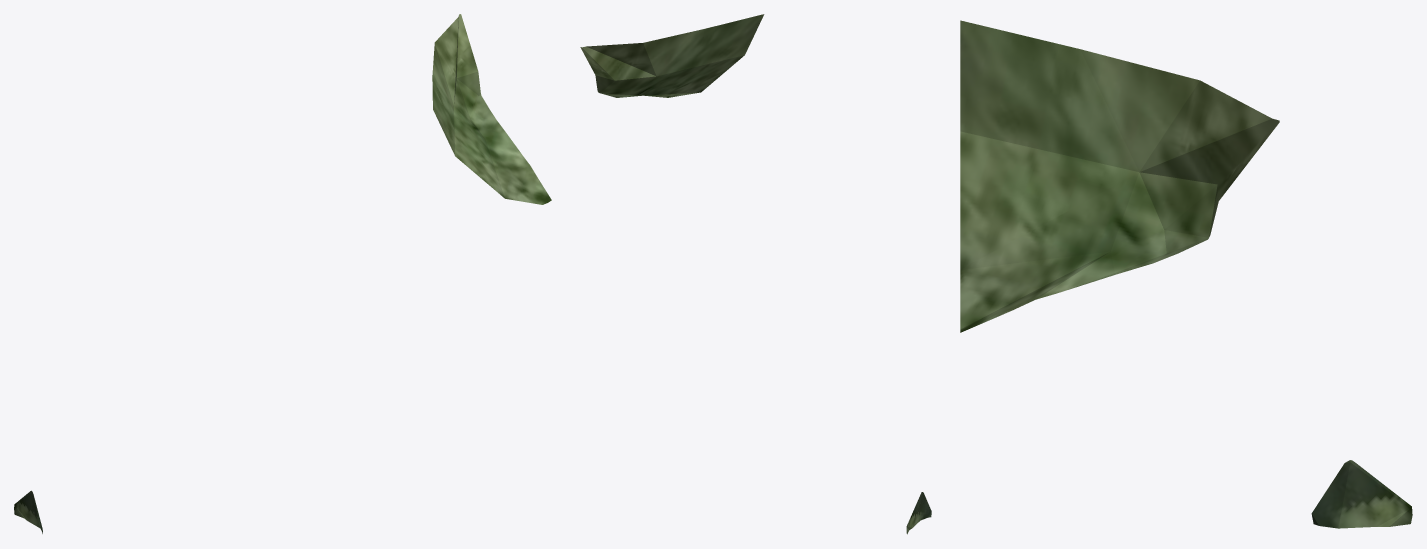
The picture shows the model from 3 angles, left to right: view 1: azimuth 30°, elevation 25°; view 2: azimuth 150°, elevation 25°; view 3: azimuth 270°, elevation 25°; orthographic projection. The views are drawn at different scales.
Bounding box in the file's own units: 2.95 × 2.95 × 1.61.
Materials: 1 (1 with a texture image).
